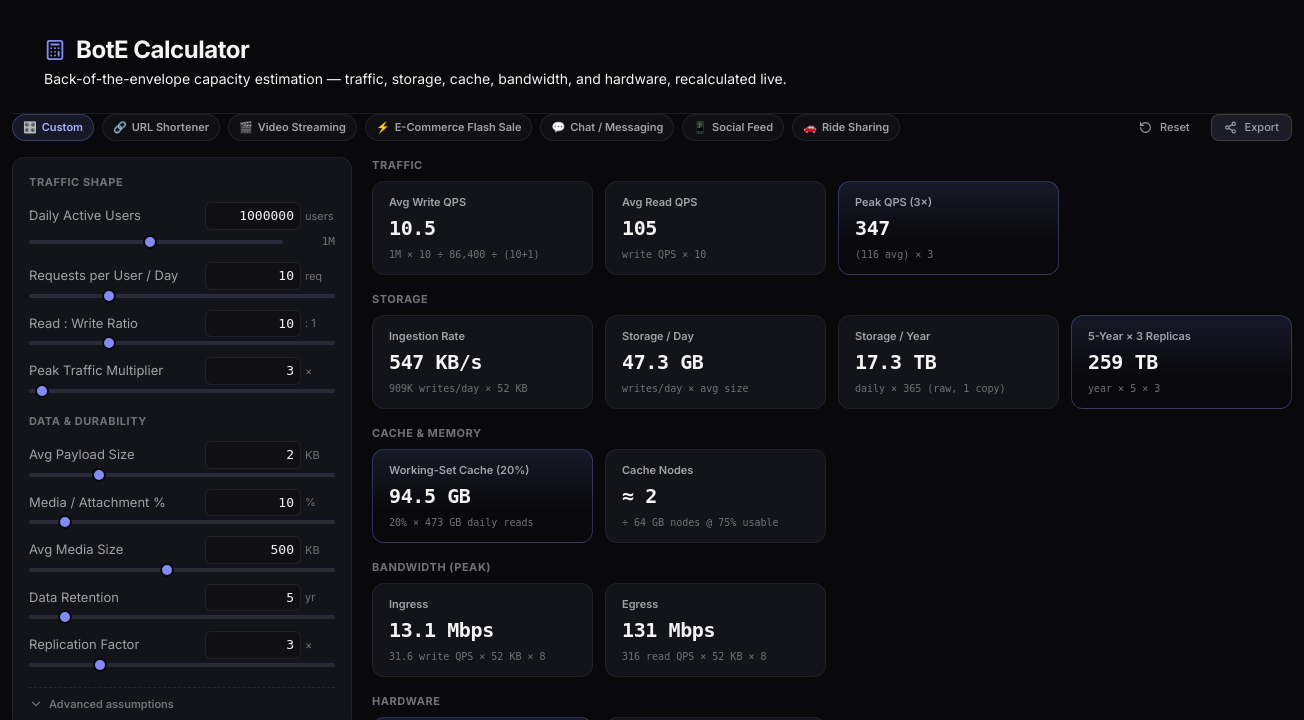
Scenario: CalculatorPage › recalculates instantly when an input changes
Replace the text in the number field with id "calc-dau" with "10000000" at (253, 216), box [205,202,301,230]
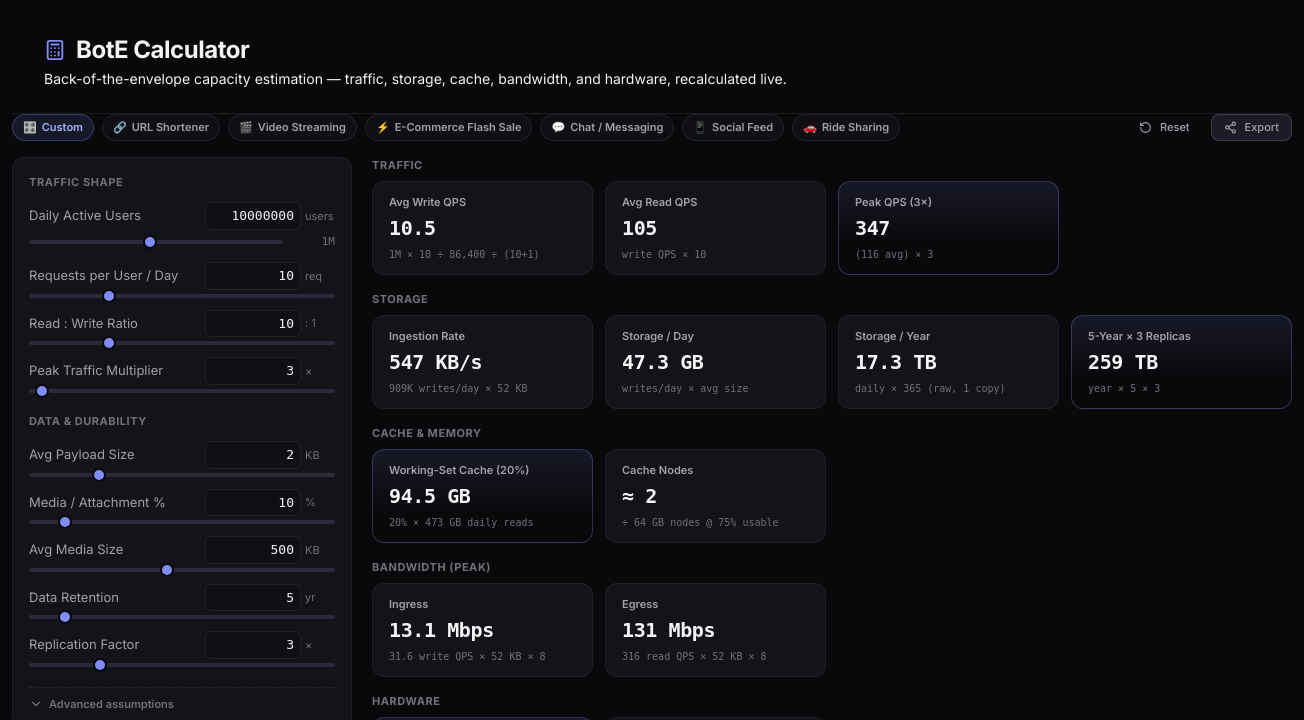
Leave the number field with id "calc-dau", box [205,202,301,230]
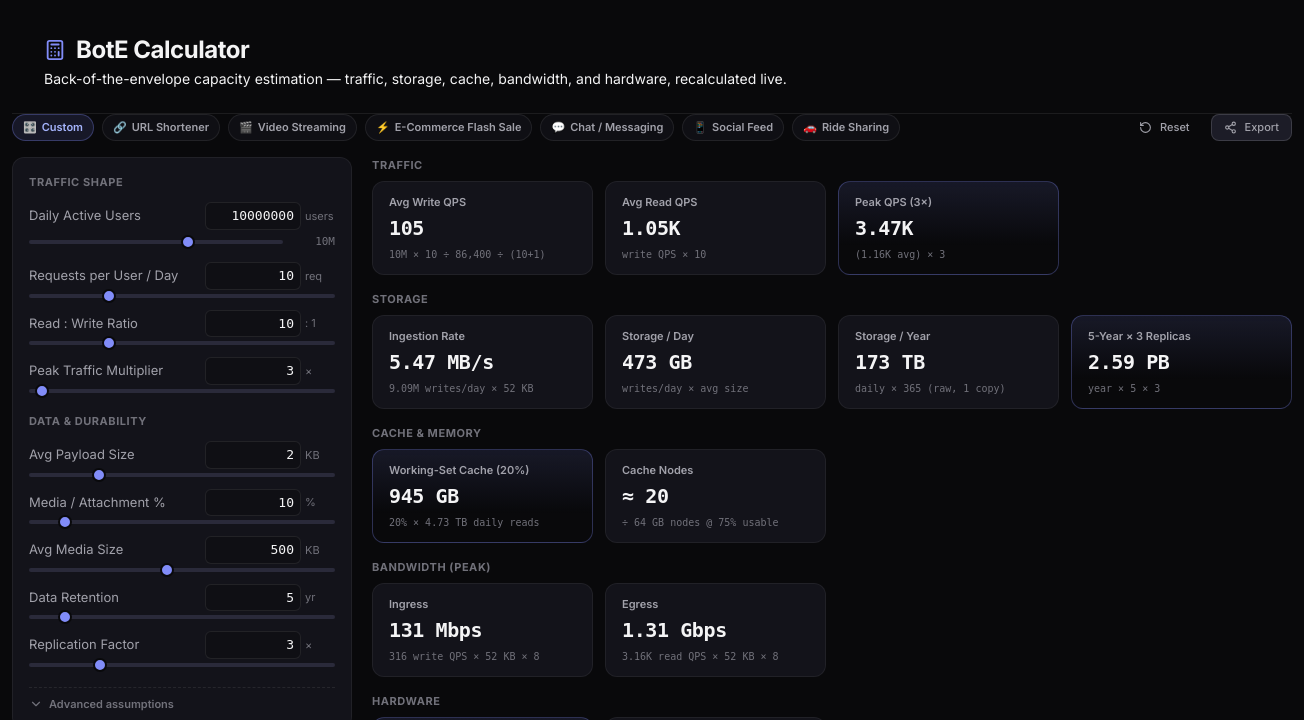
Check: the text "105" is shown, box [389,216,424,240]
